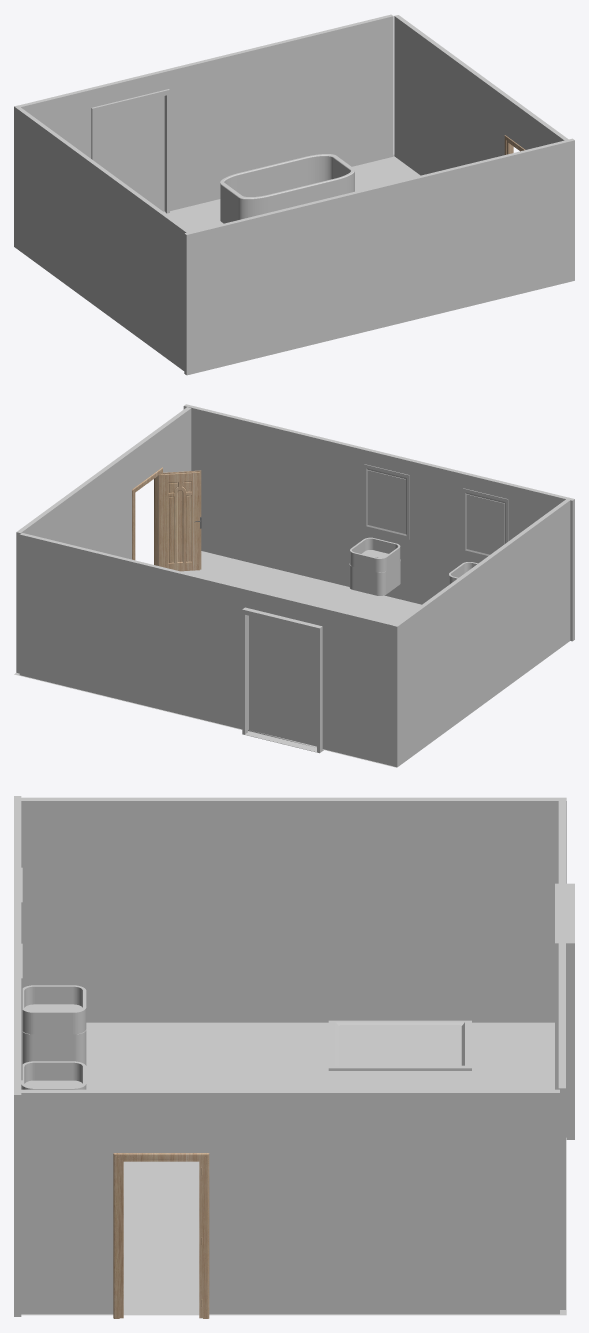
Rendered from 123bath.fbx.
The picture shows the model from 3 angles, top to bottom: view 1: azimuth 30°, elevation 25°; view 2: azimuth 150°, elevation 25°; view 3: azimuth 270°, elevation 25°; orthographic projection. The views are drawn at different scales.
Visible parts, largest first — view 1: 立方体, 立方体.016, 立方体.019, 立方体.001, 立方体.017, 立方体.015, 立方体.003, 立方体.014, 平面.001, 立方体.002, 平面, 立方体.018; view 2: 立方体, 立方体.016, 立方体.015, 立方体.001, 立方体.017, 立方体.019, 平面.001, 立方体.003, 平面, 立方体.002, Box01, 立方体.018 (+7 smaller); view 3: 立方体.019, 立方体.001, 平面, 立方体.003, 立方体.002, 立方体.005, Box06, 立方体, 立方体.008, 立方体.018, 立方体.004, 立方体.009 (+4 smaller).
Boxes of the visible parts, <box> form: 立方体: <box>184,138,574,375</box>; 立方体.016: <box>191,34,314,205</box>; 立方体.019: <box>394,15,568,175</box>; 立方体.001: <box>89,160,190,370</box>; 立方体.017: <box>312,14,393,166</box>; 立方体.015: <box>18,63,193,212</box>; 立方体.003: <box>44,128,92,301</box>; 立方体.014: <box>220,154,354,223</box>; 平面.001: <box>95,96,164,211</box>; 立方体.002: <box>14,105,48,268</box>; 平面: <box>165,155,420,231</box>; 立方体.018: <box>91,89,169,213</box>; 立方体: <box>183,404,574,641</box>; 立方体.016: <box>99,552,222,723</box>; 立方体.015: <box>220,582,395,765</box>; 立方体.001: <box>469,499,570,711</box>; 立方体.017: <box>19,533,101,694</box>; 立方体.019: <box>16,407,191,673</box>; 平面.001: <box>249,615,316,746</box>; 立方体.003: <box>424,571,472,744</box>; 平面: <box>14,551,421,767</box>; 立方体.002: <box>393,603,428,767</box>; Box01: <box>160,470,201,571</box>; 立方体.018: <box>242,607,323,753</box>; 立方体.019: <box>21,1089,559,1314</box>; 立方体.001: <box>21,797,331,1022</box>; 平面: <box>21,1022,566,1315</box>; 立方体.003: <box>329,797,470,1020</box>; 立方体.002: <box>469,797,566,1022</box>; 立方体.005: <box>339,1025,461,1065</box>; Box06: <box>113,1153,209,1318</box>; 立方体: <box>14,796,21,1316</box>; 立方体.008: <box>22,985,86,1034</box>; 立方体.018: <box>555,883,574,1139</box>; 立方体.004: <box>328,1020,471,1070</box>; 立方体.009: <box>22,1030,86,1065</box>.
Size of the model in its own units: 1039 by 365 by 824.
